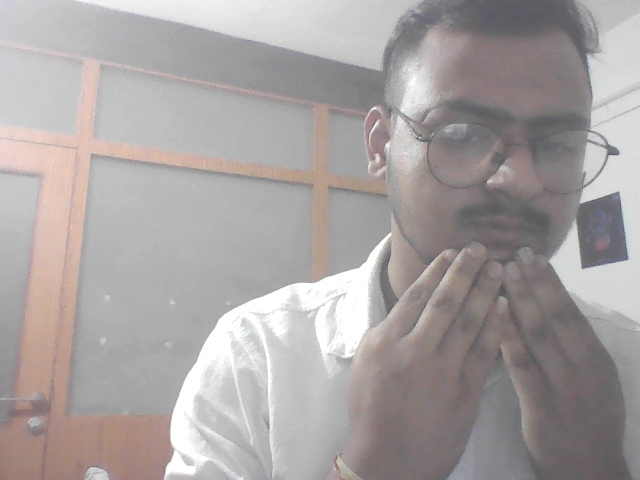ThankYou: (334, 234, 640, 477)
